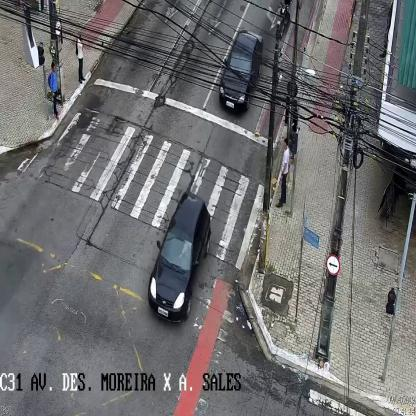car: (148, 190, 210, 322), (219, 31, 263, 117)
person: (275, 139, 290, 207), (74, 34, 86, 82), (50, 60, 59, 119)
